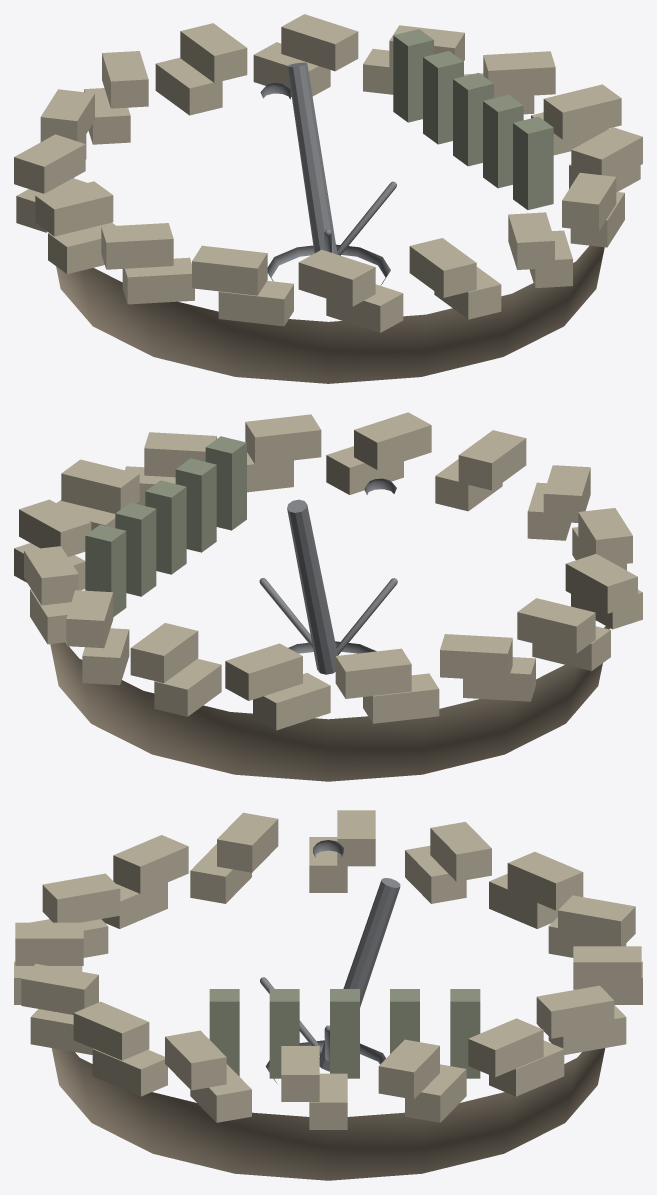
Rendered from armoured-column-and-field-camp-mortar-pit-5e648204__23677.glb.
3 renders of one model, top to bottom at view 1: azimuth 30°, elevation 25°; view 2: azimuth 150°, elevation 25°; view 3: azimuth 270°, elevation 25°, orthographic.
Visible parts, largest first — view 1: mortar-pit; view 2: mortar-pit; view 3: mortar-pit.
Part boxes in pixels (<box>): mortar-pit: <box>14,14,642,383</box>; mortar-pit: <box>14,412,642,781</box>; mortar-pit: <box>14,810,642,1180</box>.
Size of the model in its own units: 4.6 by 1.64 by 4.6.
